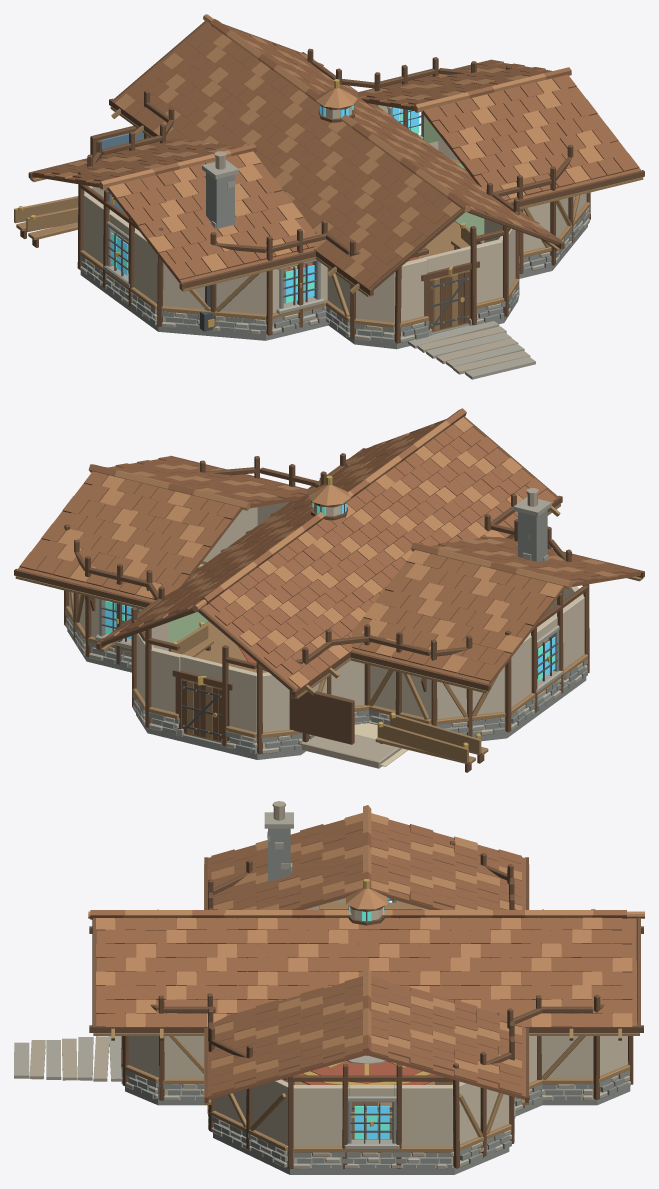
File: holm_guide_hall_v7.glb
3 renders of one model, top to bottom at view 1: azimuth 30°, elevation 25°; view 2: azimuth 150°, elevation 25°; view 3: azimuth 270°, elevation 25°, orthographic. The views are drawn at different scales.
Parts seen in each view (by area): view 1: Roof_Fired_Roof_Umber, Roof_Fired_Roof_Sun, Static_Holm_Limewash, Static_Holm_Oak_Dark, Static_Holm_Fieldstone, Static_Holm_Oak_Worn, Static_Holm_Fieldstone_Light, Roof_Holm_Oak_Dark, Static_Holm_Path, Roof_Holm_Oak_Worn, Roof_Holm_Fieldstone, front_door_Holm_Oak_Dark (+4 smaller); view 2: Roof_Fired_Roof_Umber, Roof_Fired_Roof_Sun, Static_Holm_Oak_Dark, Static_Holm_Limewash, Static_Holm_Oak_Worn, Static_Holm_Fieldstone, Roof_Holm_Oak_Dark, Static_Holm_Fieldstone_Light, Static_Holm_Path, Roof_Holm_Oak_Worn, teaching_door_Holm_Oak_Dark, Roof_Holm_Fieldstone (+5 smaller); view 3: Roof_Fired_Roof_Umber, Roof_Fired_Roof_Sun, Static_Holm_Limewash, Static_Holm_Oak_Dark, Static_Holm_Fieldstone, Static_Holm_Fieldstone_Light, Static_Holm_Oak_Worn, Roof_Holm_Oak_Dark, Static_Holm_Path, Static_Compass_Ember, Roof_Holm_Oak_Worn, Roof_Holm_Fieldstone (+2 smaller).
Boxes of the visible parts, x1,y1,x2,y2 form: Roof_Fired_Roof_Umber: (32,19,641,286); Roof_Fired_Roof_Sun: (54,14,603,277); Static_Holm_Limewash: (83,104,586,342); Static_Holm_Oak_Dark: (20,48,590,343); Static_Holm_Fieldstone: (80,107,589,349); Static_Holm_Oak_Worn: (14,159,589,327); Static_Holm_Fieldstone_Light: (80,106,589,379); Roof_Holm_Oak_Dark: (28,20,644,295); Static_Holm_Path: (417,326,530,374); Roof_Holm_Oak_Worn: (30,62,643,297); Roof_Holm_Fieldstone: (206,172,234,229); front_door_Holm_Oak_Dark: (430,271,469,331); Roof_Fired_Roof_Umber: (17,408,641,688); Roof_Fired_Roof_Sun: (57,410,618,687); Static_Holm_Oak_Dark: (64,453,589,772); Static_Holm_Limewash: (69,502,584,752); Static_Holm_Oak_Worn: (65,592,587,764); Static_Holm_Fieldstone: (65,599,587,759); Roof_Holm_Oak_Dark: (14,416,644,697); Static_Holm_Fieldstone_Light: (65,618,587,754); Static_Holm_Path: (195,564,401,768); Roof_Holm_Oak_Worn: (15,459,643,698); teaching_door_Holm_Oak_Dark: (182,679,222,741); Roof_Holm_Fieldstone: (518,510,547,561); Roof_Fired_Roof_Umber: (90,819,637,1099); Roof_Fired_Roof_Sun: (88,805,644,1074); Static_Holm_Limewash: (128,898,628,1167); Static_Holm_Oak_Dark: (121,841,633,1168); Static_Holm_Fieldstone: (121,899,630,1174); Static_Holm_Fieldstone_Light: (14,1036,630,1169); Static_Holm_Oak_Worn: (121,902,630,1154); Roof_Holm_Oak_Dark: (89,857,643,1102); Static_Holm_Path: (29,1036,109,1081); Static_Compass_Ember: (296,1061,436,1084); Roof_Holm_Oak_Worn: (93,864,639,1104); Roof_Holm_Fieldstone: (268,828,290,881).
Bounding box in the file's own units: 26.65 × 9.38 × 29.25.
